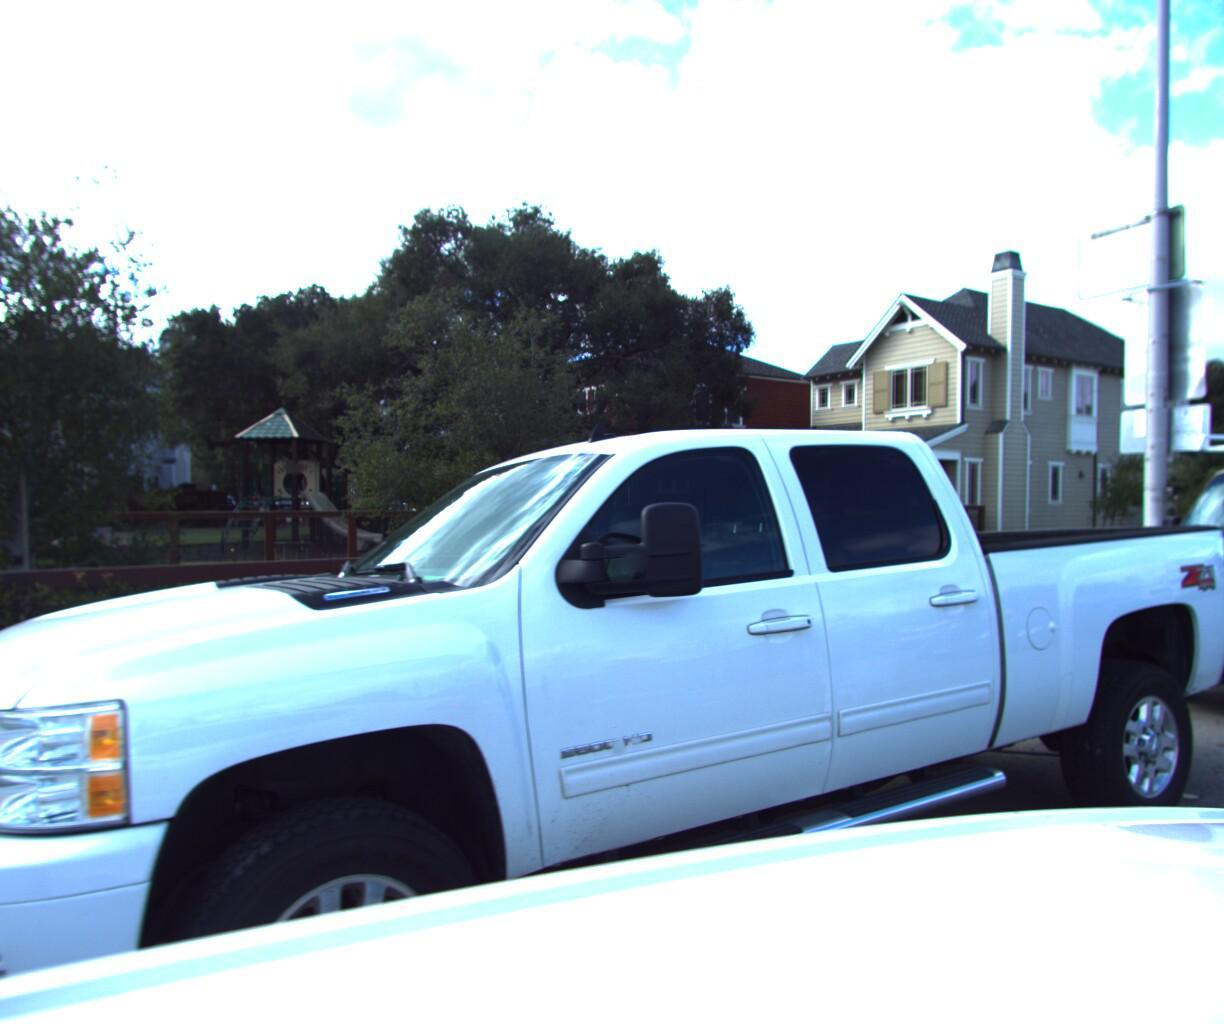car: (0, 316, 1224, 1024), (1111, 413, 1224, 763)
